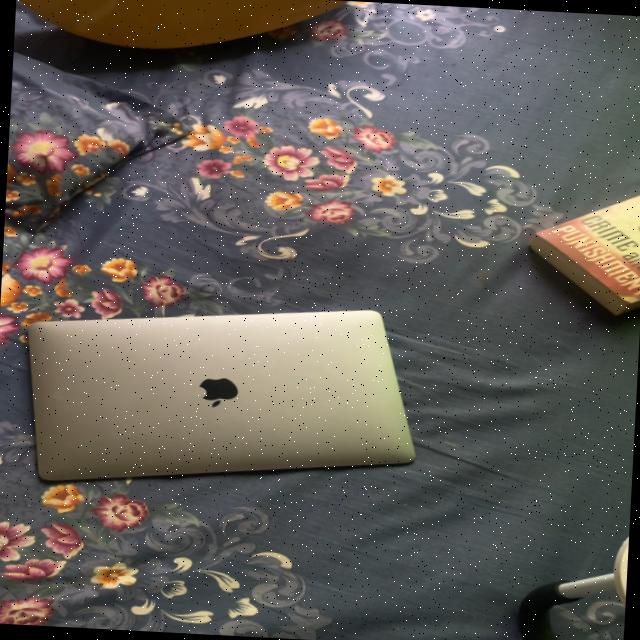book: (506, 178, 640, 329)
guitar: (13, 0, 413, 82)
laptop: (6, 281, 446, 505)
